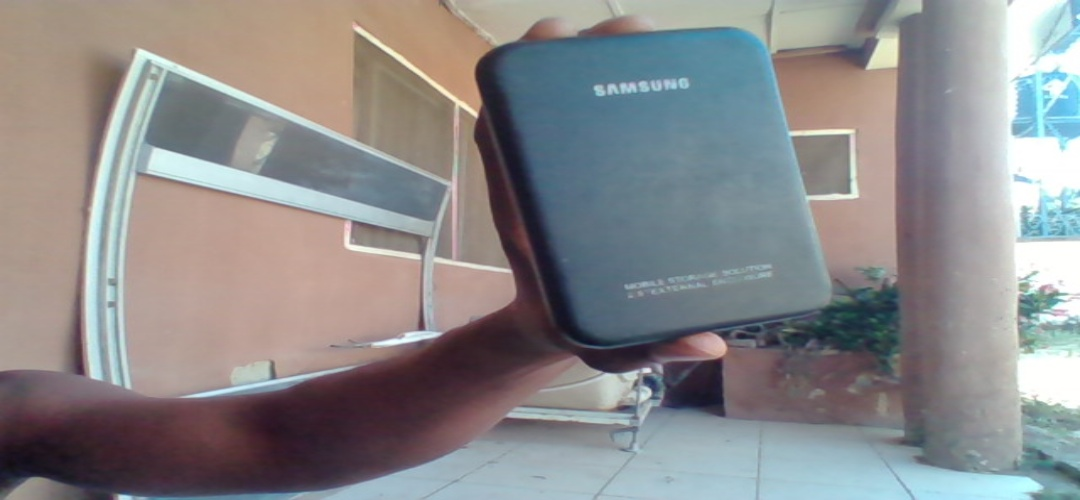hard_disk_case: (481, 41, 839, 339)
